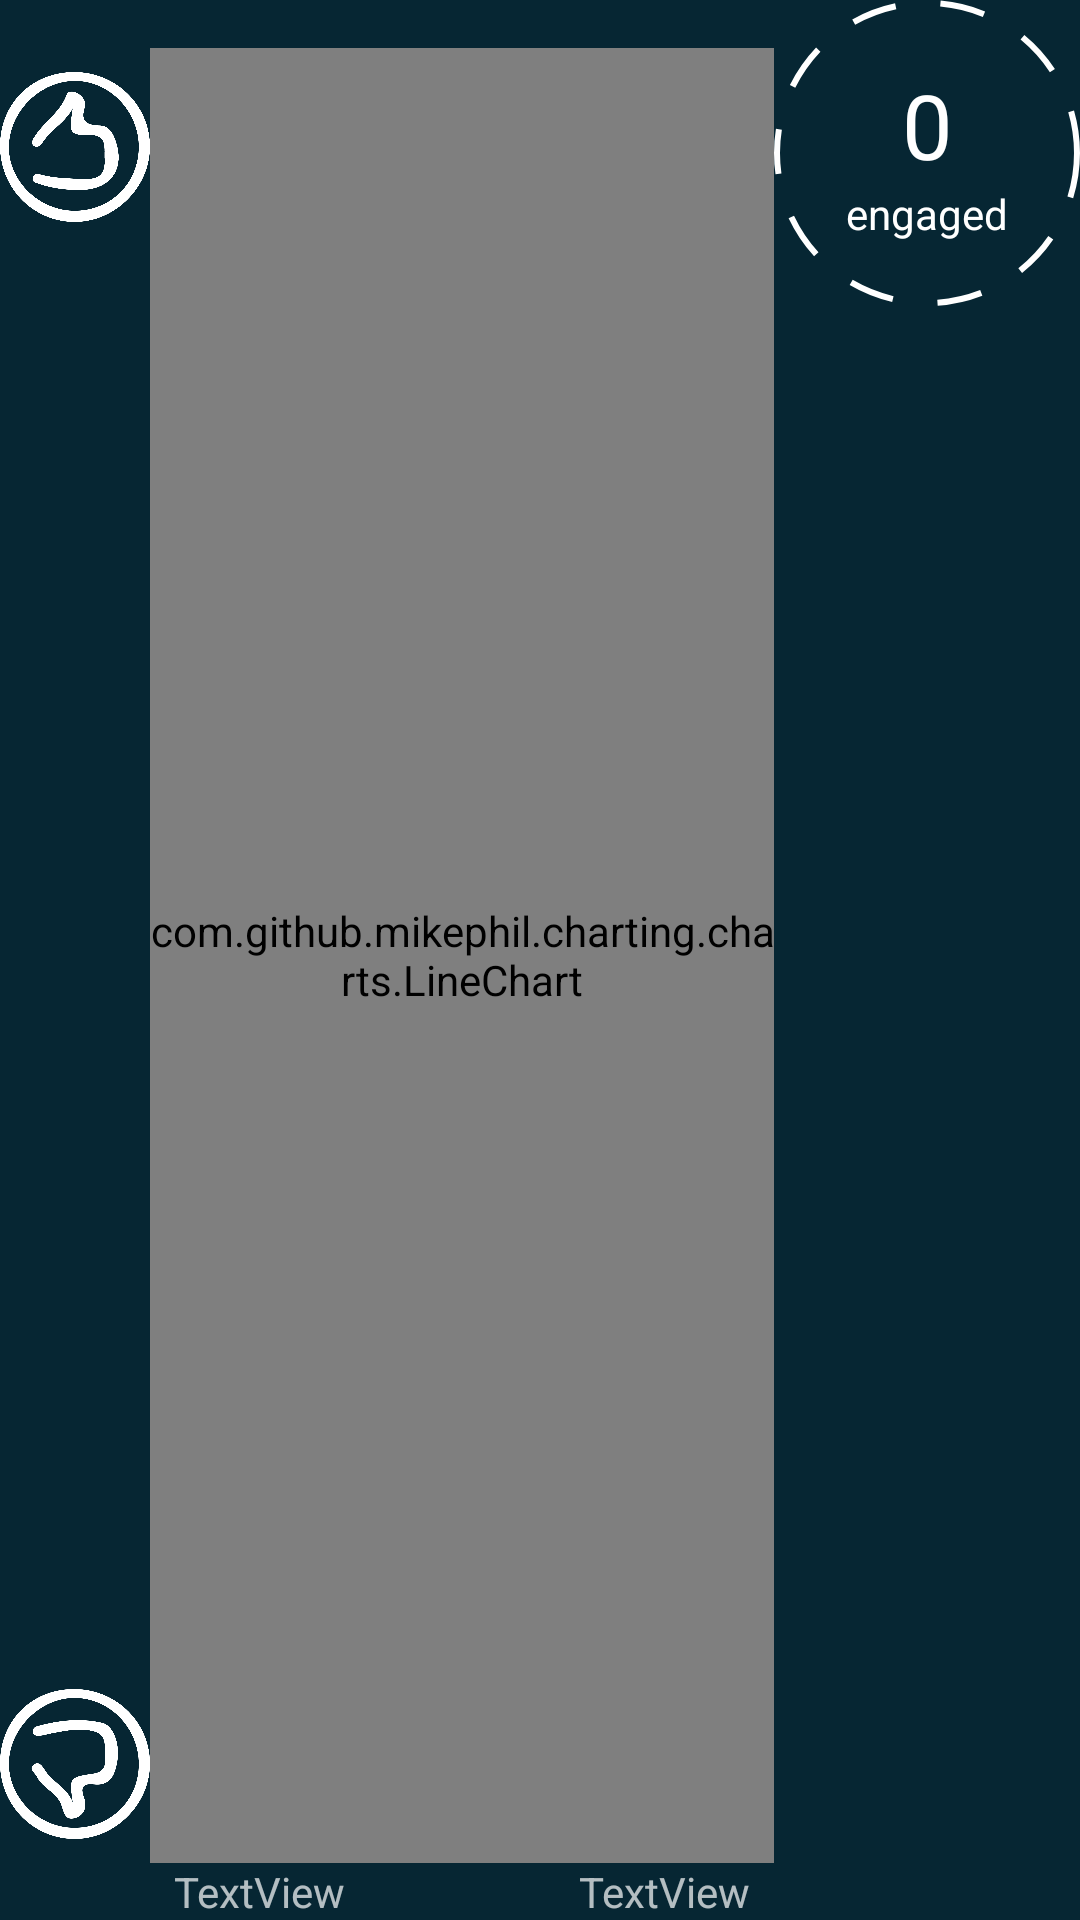

Icons on this 1080 × 1920 Android screen, each with its box as (x1=x1, y1=y1, x2=x2, y2=y2):
thumbs down: (x1=0, y1=1689, x2=150, y2=1839)
thumbs up: (x1=0, y1=72, x2=150, y2=222)
